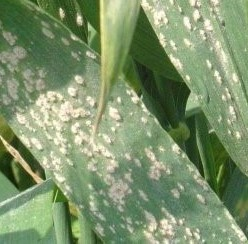Powdery Mildew: (21, 79, 202, 244)
